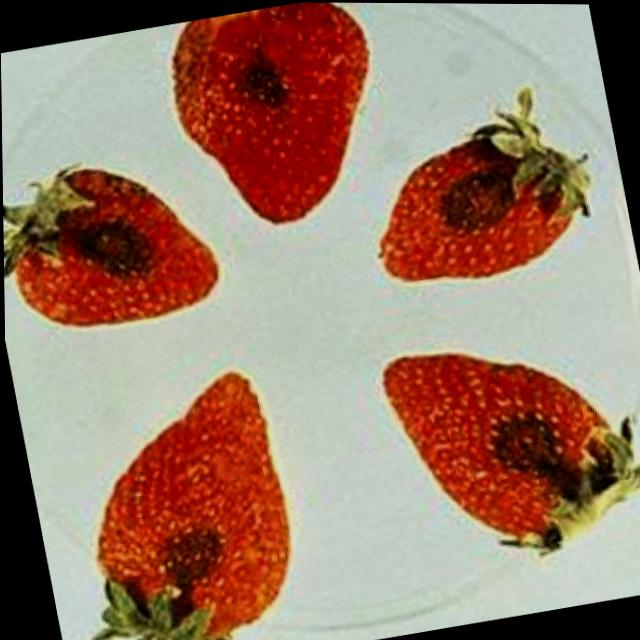Anthracnose Fruit Rot: (481, 403, 578, 494), (423, 160, 518, 237), (145, 515, 230, 594), (64, 213, 158, 279), (224, 40, 299, 111)
